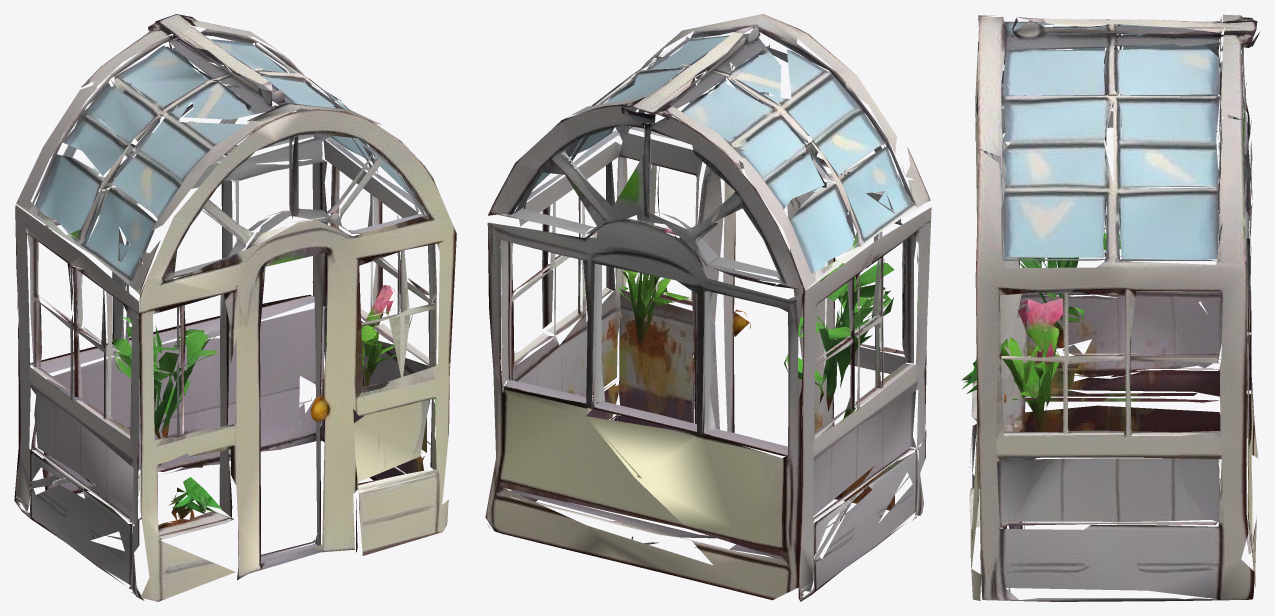
The model's file is sera.glb.
3 views of the same model, side by side, from view 1: azimuth 30°, elevation 25°; view 2: azimuth 150°, elevation 25°; view 3: azimuth 270°, elevation 25° (orthographic). The views are drawn at different scales.
Visible parts, largest first — view 1: geometry_0; view 2: geometry_0; view 3: geometry_0.
Boxes of the visible parts, bbox=[...] form: geometry_0: bbox=[14, 14, 456, 601]; geometry_0: bbox=[485, 14, 931, 601]; geometry_0: bbox=[961, 14, 1259, 601].
Bounding box in the file's own units: 0.7177 × 1 × 0.5365.
Materials: 1 (1 with a texture image).
